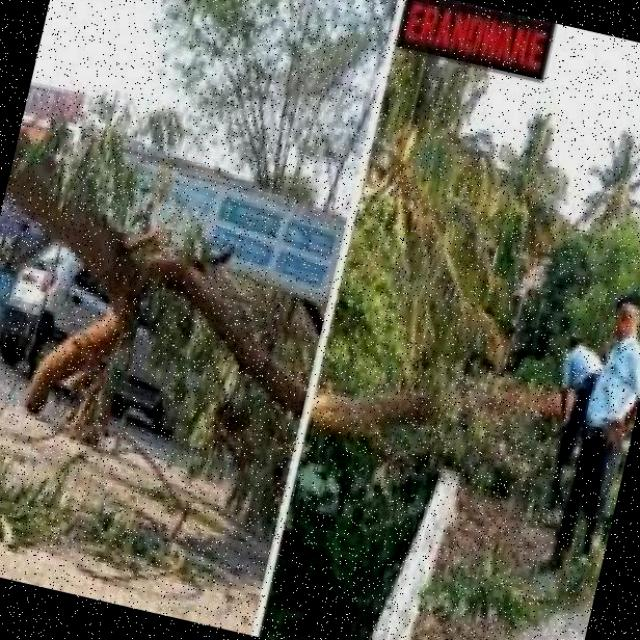fallen_object: (0, 66, 350, 429), (306, 305, 640, 505)
